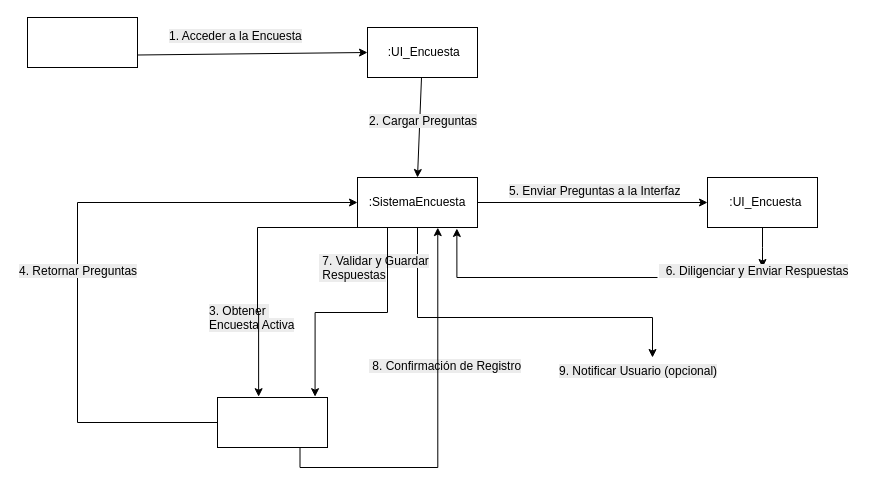
The diagram is 894 pixels wide and 493 high, and some of its shapes have lost their labels. Here are the shapes that lost their labels. From the top down, the centre of each, then its label:
At point (82, 42): ":Usuario".
At point (272, 422): ":BD_Encuestas".
